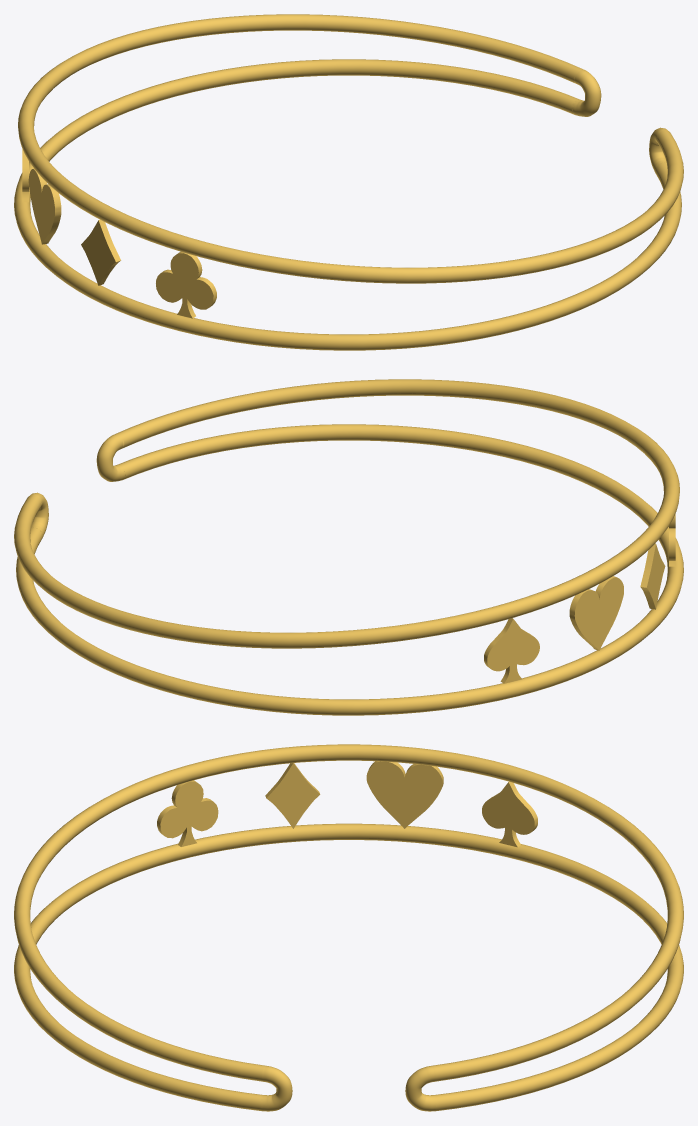
File: 8-gold.fbx
3 views of the same model, one above another, from view 1: azimuth 30°, elevation 25°; view 2: azimuth 150°, elevation 25°; view 3: azimuth 270°, elevation 25° (orthographic).
Visible parts, largest first — view 1: Arc002, Line012, Line010, Line011; view 2: Arc002, Line010, Line009, Line011; view 3: Arc002, Line010, Line012, Line009, Line011.
Part boxes in pixels (left/top/right/bottom): Arc002: left=14, top=14, right=683, bottom=350; Line012: left=156, top=251, right=216, bottom=318; Line010: left=28, top=168, right=61, bottom=244; Line011: left=81, top=219, right=120, bottom=285; Arc002: left=14, top=379, right=683, bottom=715; Line010: left=569, top=576, right=623, bottom=650; Line009: left=484, top=618, right=539, bottom=683; Line011: left=640, top=543, right=665, bottom=609; Arc002: left=14, top=744, right=683, bottom=1111; Line010: left=366, top=761, right=443, bottom=828; Line012: left=157, top=780, right=218, bottom=846; Line009: left=482, top=781, right=537, bottom=847; Line011: left=265, top=763, right=320, bottom=828.
Size of the model in its own units: 20.32 by 3.24 by 20.5.
